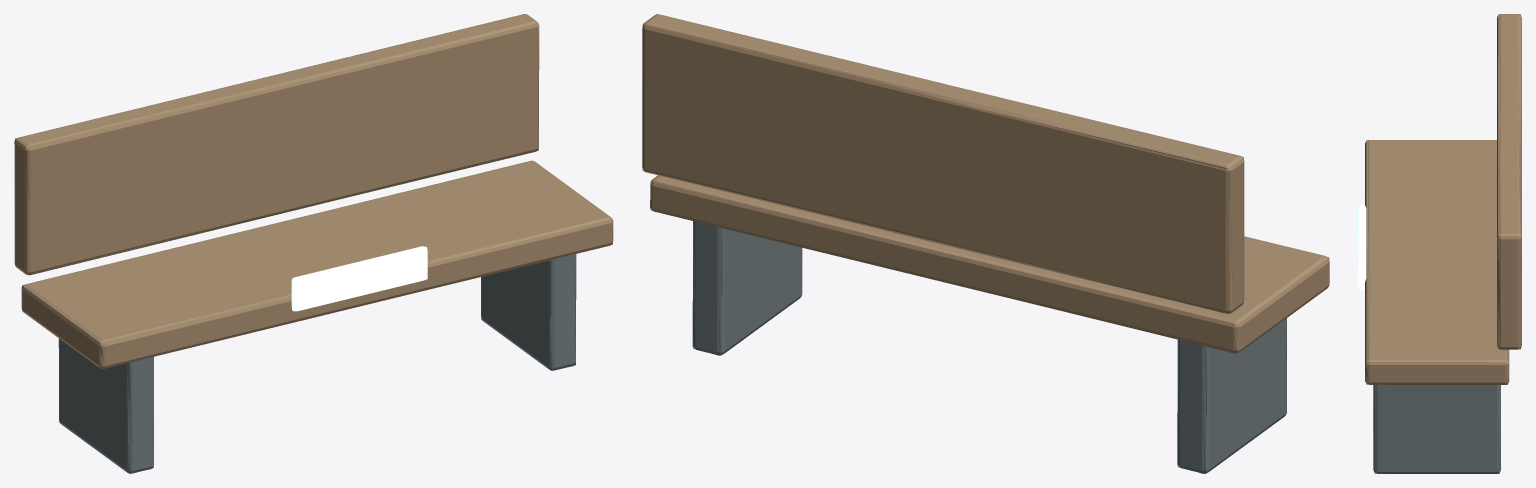
Rendered from SM_Kurpark_Bench.fbx.
3 views of the same model, side by side, from view 1: azimuth 30°, elevation 25°; view 2: azimuth 150°, elevation 25°; view 3: azimuth 270°, elevation 25° (orthographic). The views are drawn at different scales.
Parts seen in each view (by area): view 1: LOD0_SM_Kurpark_Bench, LOD1_SM_Kurpark_Bench, LOD2_SM_Kurpark_Bench; view 2: LOD0_SM_Kurpark_Bench, LOD1_SM_Kurpark_Bench, LOD2_SM_Kurpark_Bench; view 3: LOD0_SM_Kurpark_Bench, LOD1_SM_Kurpark_Bench, LOD2_SM_Kurpark_Bench.
Boxes of the visible parts, x1,y1,x2,y2 form: LOD0_SM_Kurpark_Bench: (14,14,613,473); LOD1_SM_Kurpark_Bench: (14,14,613,472); LOD2_SM_Kurpark_Bench: (15,14,613,472); LOD0_SM_Kurpark_Bench: (642,14,1329,473); LOD1_SM_Kurpark_Bench: (642,14,1329,473); LOD2_SM_Kurpark_Bench: (643,14,1328,473); LOD0_SM_Kurpark_Bench: (1358,14,1521,473); LOD1_SM_Kurpark_Bench: (1358,14,1521,473); LOD2_SM_Kurpark_Bench: (1359,14,1520,473).
Bounding box in the file's own units: 1.9 × 1.01 × 0.59.
